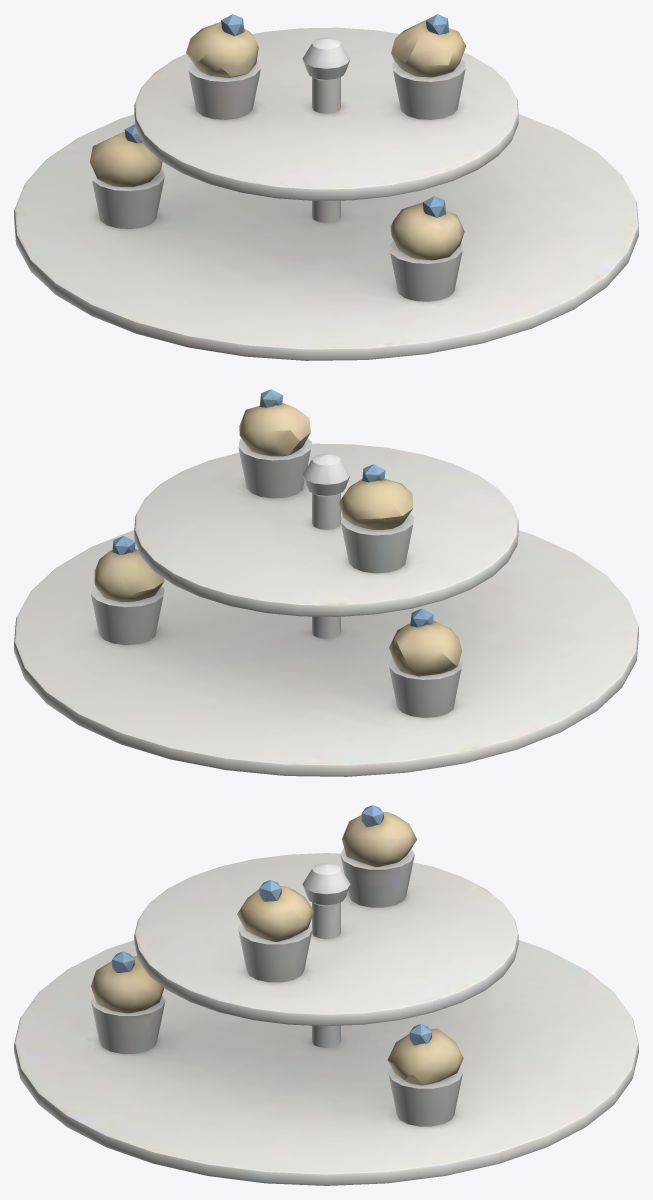
File: cupcake_stand.glb
3 renders of one model, top to bottom at view 1: azimuth 30°, elevation 25°; view 2: azimuth 150°, elevation 25°; view 3: azimuth 270°, elevation 25°, orthographic.
Parts seen in each view (by area): view 1: cupcake_stand; view 2: cupcake_stand; view 3: cupcake_stand.
Boxes of the visible parts, x1=… form: cupcake_stand: x1=14, y1=14, x2=638, y2=360; cupcake_stand: x1=14, y1=389, x2=638, y2=776; cupcake_stand: x1=14, y1=805, x2=638, y2=1185.
Size of the model in its own units: 0.52 by 0.243 by 0.52.
1 material, 1 textured.
